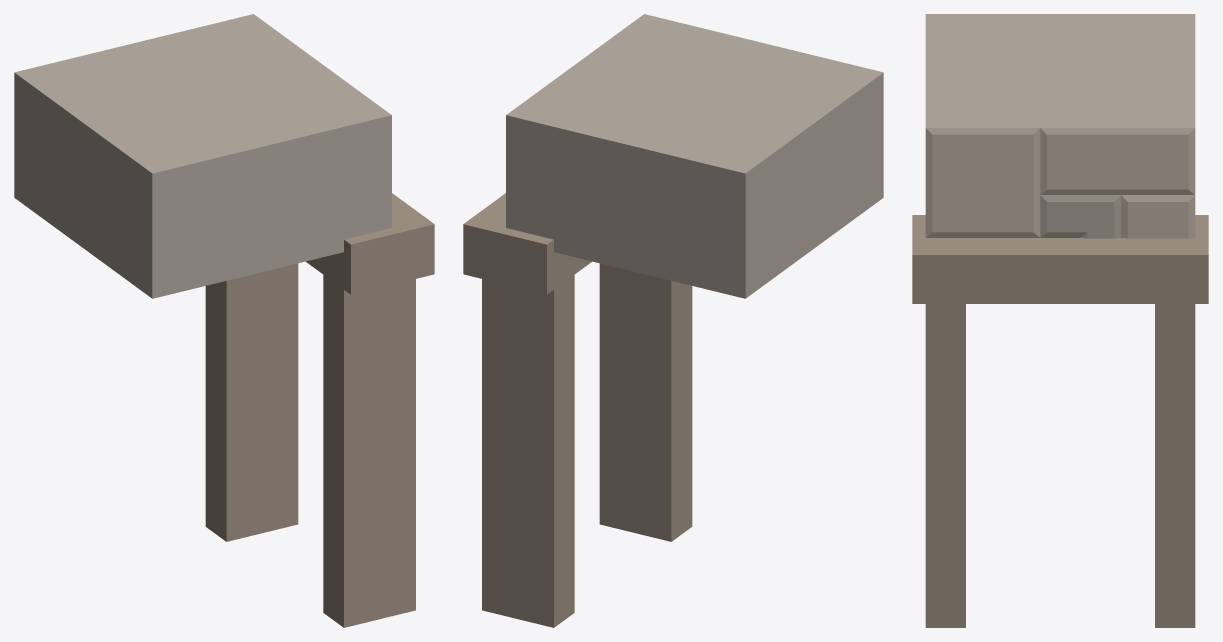
The model's file is Stone_Doorway_Narrow_Tall_2.glb.
The picture shows the model from 3 angles, left to right: view 1: azimuth 30°, elevation 25°; view 2: azimuth 150°, elevation 25°; view 3: azimuth 270°, elevation 25°; orthographic projection. The views are drawn at different scales.
Parts seen in each view (by area): view 1: object1, object2; view 2: object1, object2; view 3: object1, object2.
Part boxes in pixels (bbox=[...]): object1: bbox=[14, 14, 391, 298]; object2: bbox=[205, 193, 434, 627]; object1: bbox=[506, 14, 883, 298]; object2: bbox=[463, 193, 692, 627]; object1: bbox=[925, 14, 1195, 238]; object2: bbox=[912, 215, 1208, 627].
Bounding box in the file's own units: 1.15 × 2 × 1.1.
